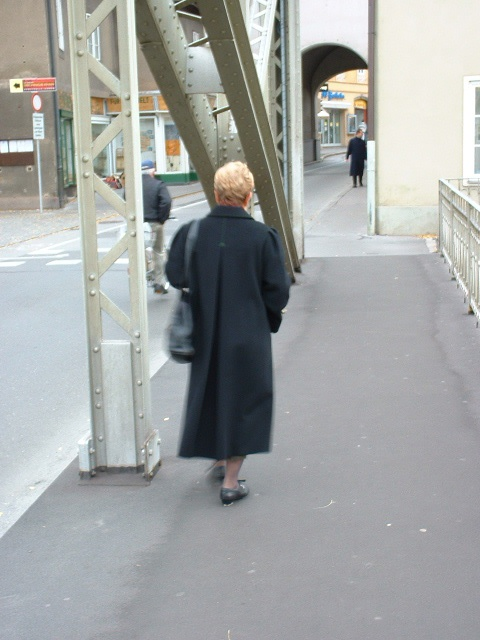person: (163, 165, 292, 504)
